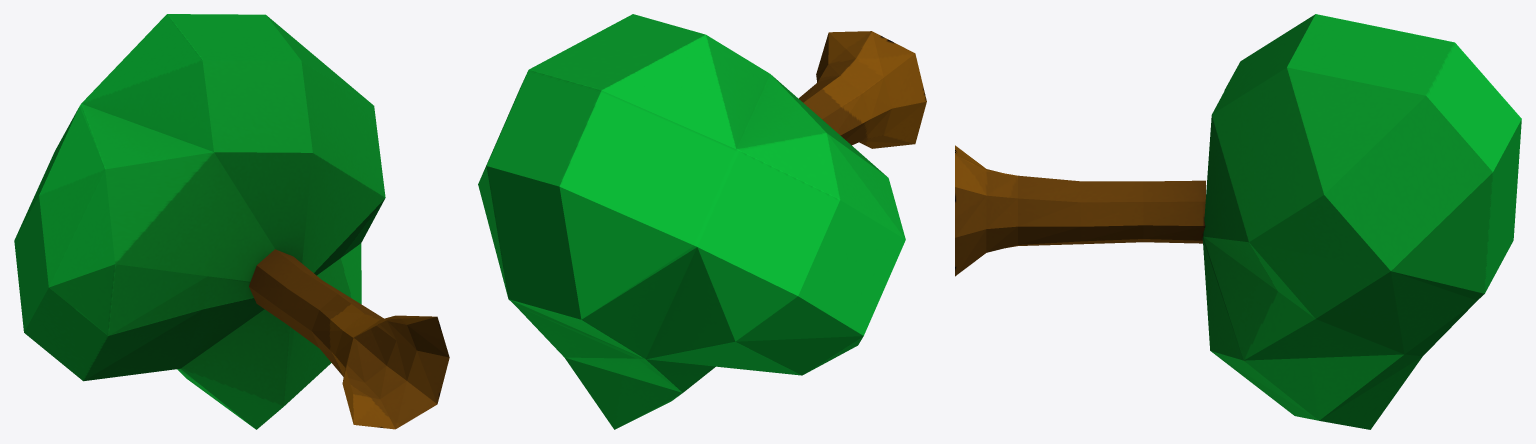
Rendered from tree.obj.
3 views of the same model, side by side, from view 1: azimuth 30°, elevation 25°; view 2: azimuth 150°, elevation 25°; view 3: azimuth 270°, elevation 25° (orthographic). The views are drawn at different scales.
Visible parts, largest first — view 1: Cube.001_Cube.002; view 2: Cube.001_Cube.002; view 3: Cube.001_Cube.002.
Part boxes in pixels (box(x1,y1,x2,y2)): Cube.001_Cube.002: box(14, 14, 449, 429); Cube.001_Cube.002: box(478, 14, 926, 429); Cube.001_Cube.002: box(955, 14, 1521, 429).
Bounding box in the file's own units: 10.48 × 10.59 × 14.12.
Materials: 1 (1 with a texture image).
